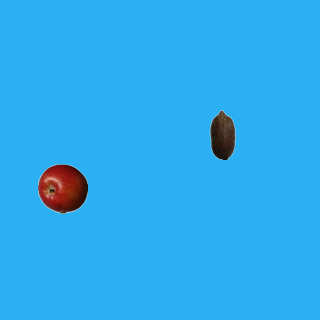Apple Braeburn: (37, 163, 87, 213)
Nut Pecan: (197, 109, 247, 159)
